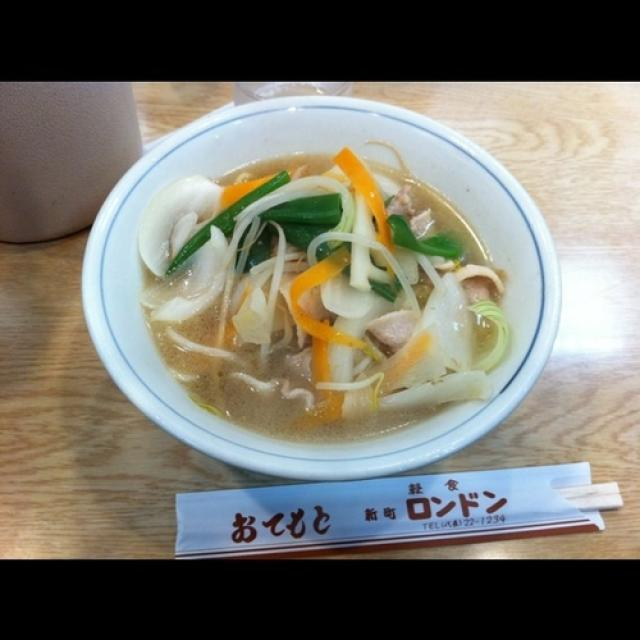鸡蛋料理: (144, 79, 603, 628)
